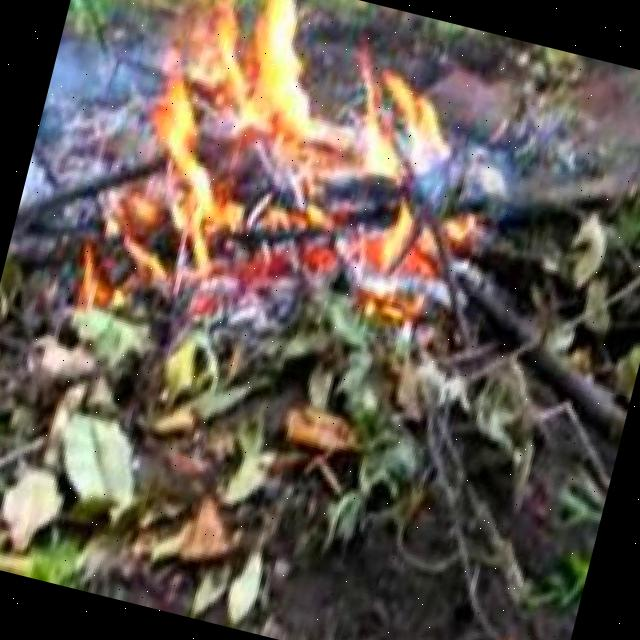fire: (85, 0, 529, 360)
